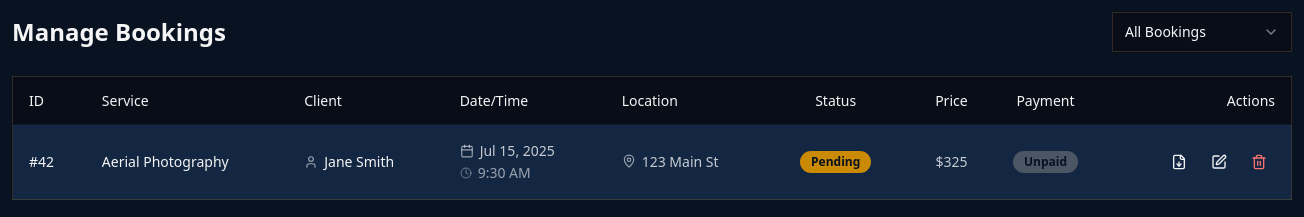
Test case: BookingManager – smoke render › disables the delete button while the delete mutation is pending
This screenshot has width=1304, height=217.
Expected: the button named "edit booking" is shown, [1203,146,1235,178]
Click the button named "Delete booking": (1259, 162) [1243,146,1275,178]
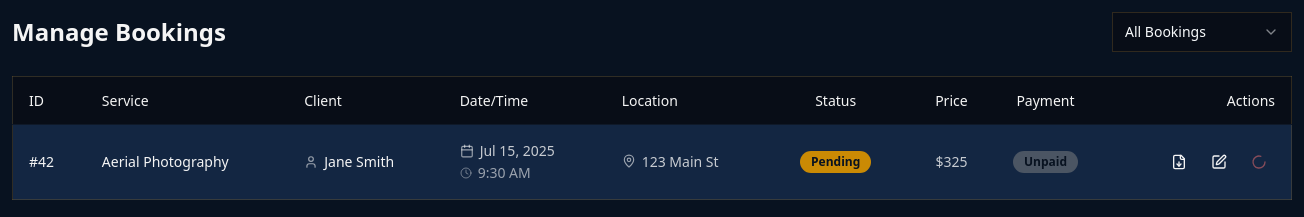
Expected: the button named "Delete booking" is disabled, [1243,146,1275,178]
